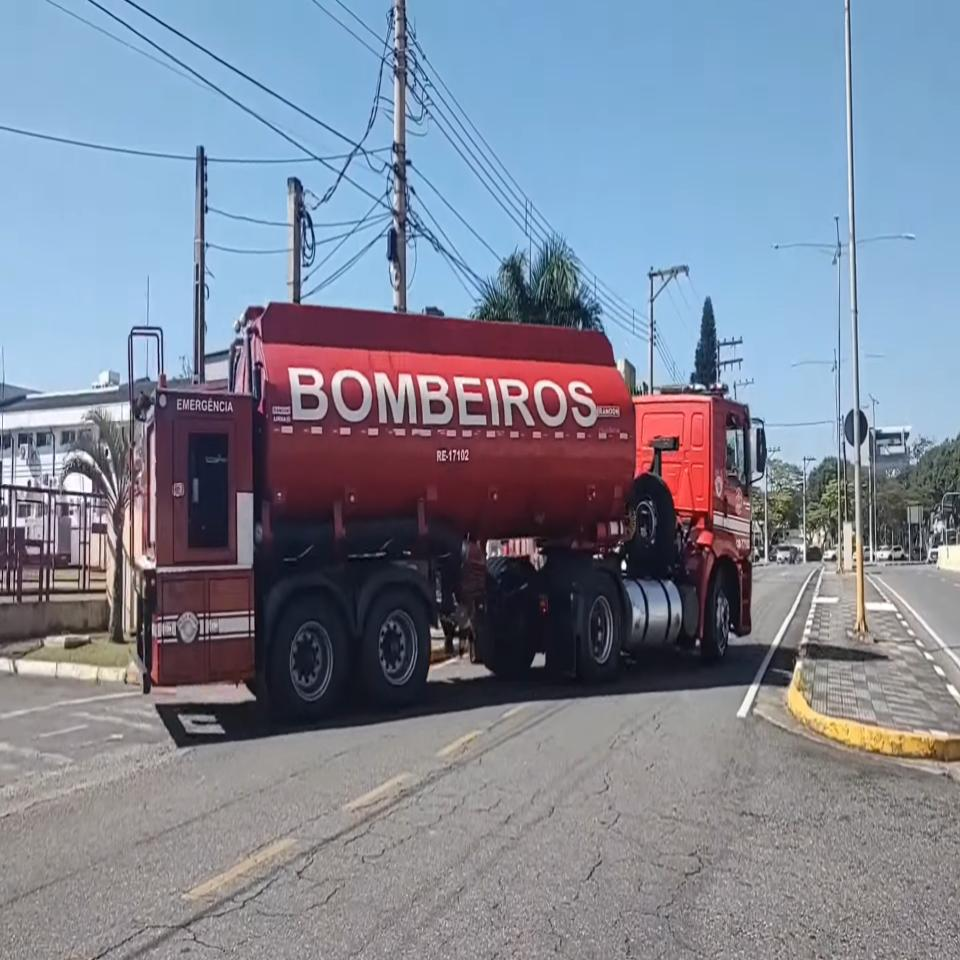viatura: (128, 302, 766, 722)
